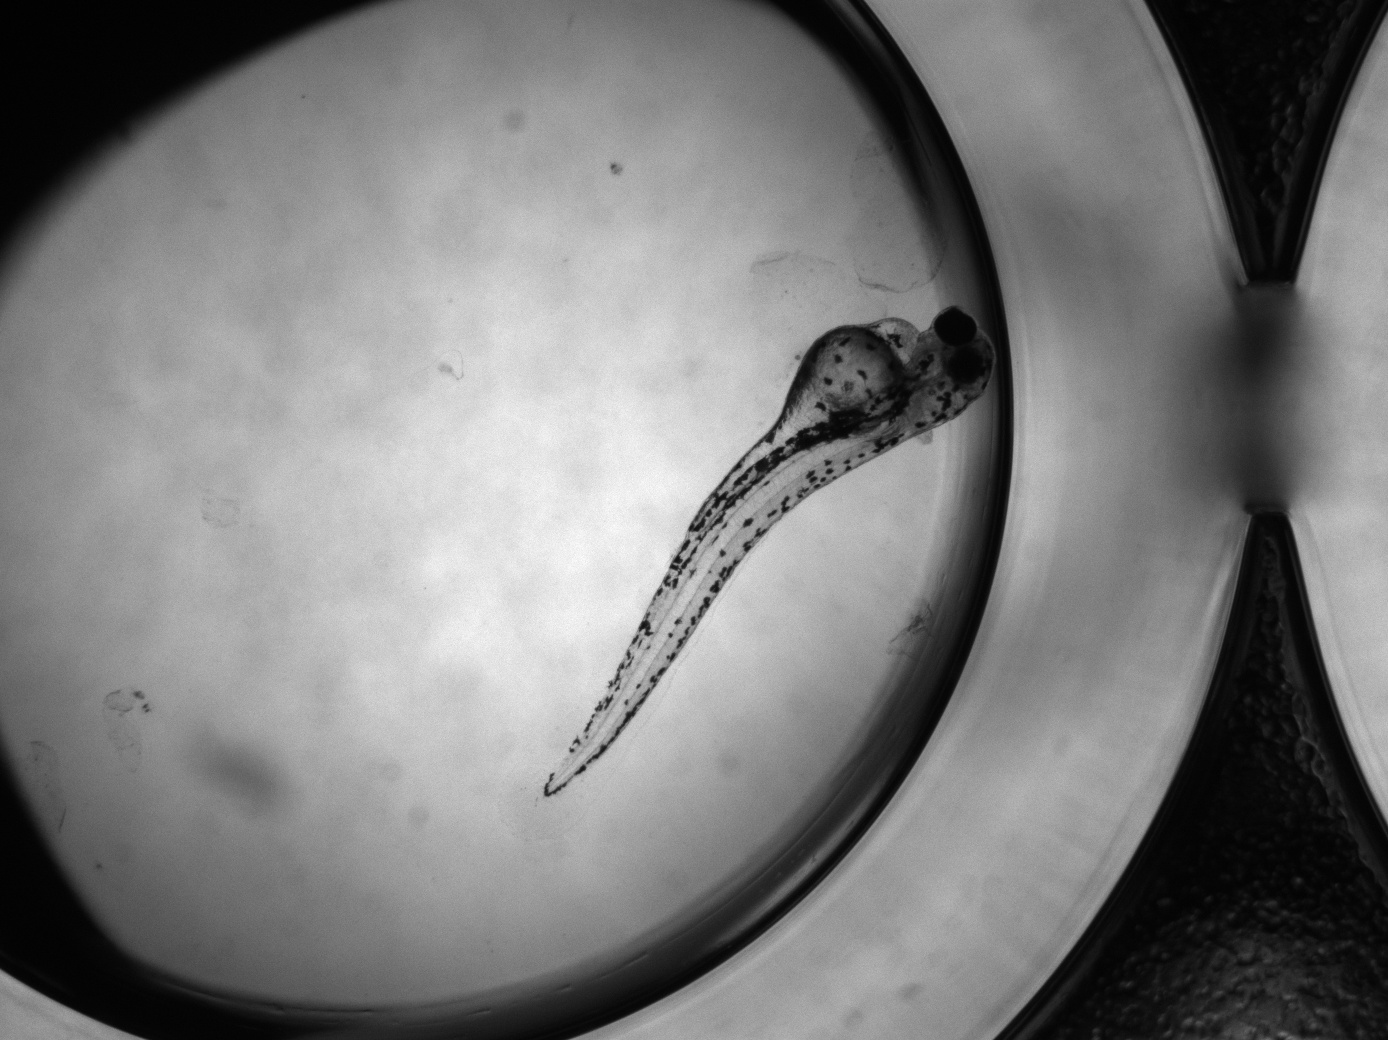embryo: (543, 307, 996, 797)
eye: (934, 308, 977, 344), (948, 347, 982, 385)
yolksac: (776, 315, 920, 439)
